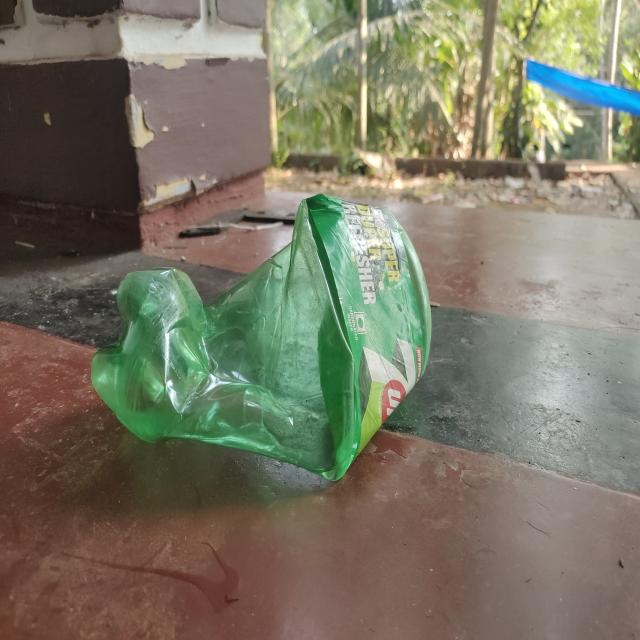plastic: (90, 192, 432, 487)
